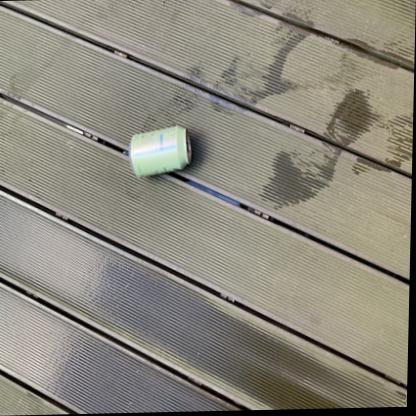trash: (129, 126, 190, 175)
